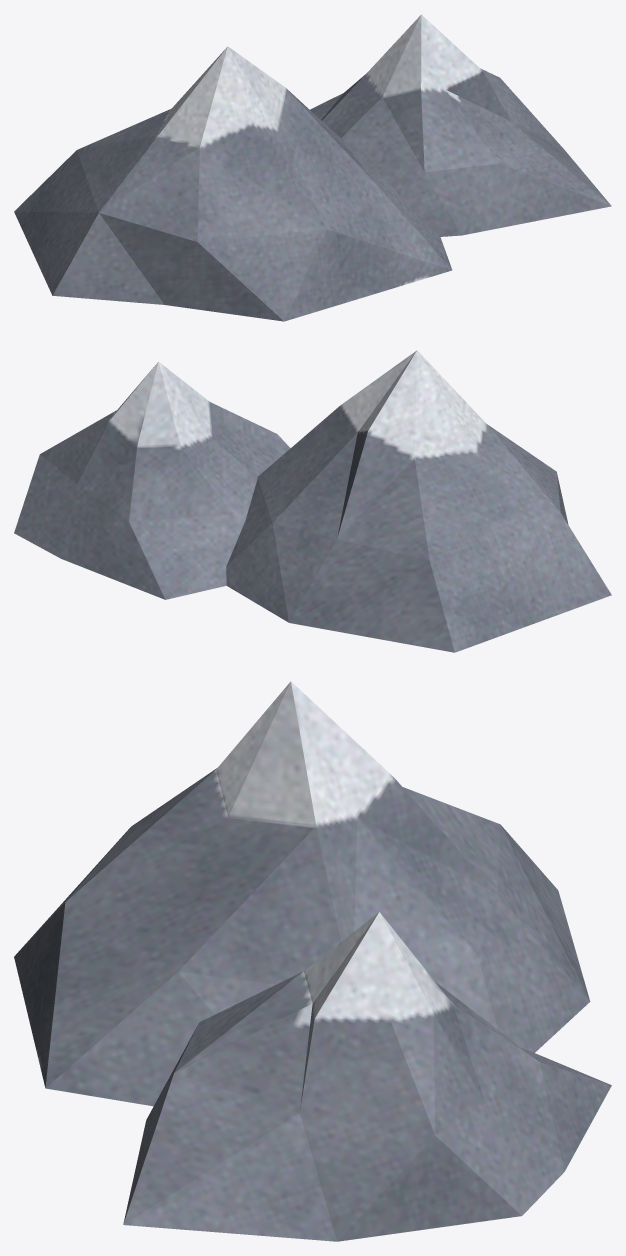
The model's file is SM_Mountain_B.fbx.
3 renders of one model, top to bottom at view 1: azimuth 30°, elevation 25°; view 2: azimuth 150°, elevation 25°; view 3: azimuth 270°, elevation 25°, orthographic. The views are drawn at different scales.
Parts seen in each view (by area): view 1: SM_Mountain_B; view 2: SM_Mountain_B; view 3: SM_Mountain_B.
Part boxes in pixels (<box>): SM_Mountain_B: <box>14,14,611,321</box>; SM_Mountain_B: <box>14,350,611,652</box>; SM_Mountain_B: <box>14,681,611,1241</box>.
Size of the model in its own units: 145566 by 52000 by 93452.
Materials: 1 (1 with a texture image).
